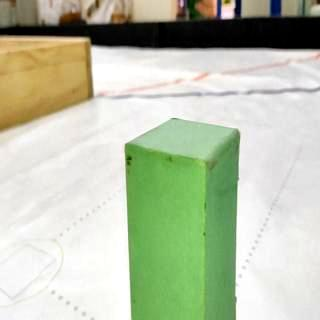greenbox: (123, 114, 243, 320)
